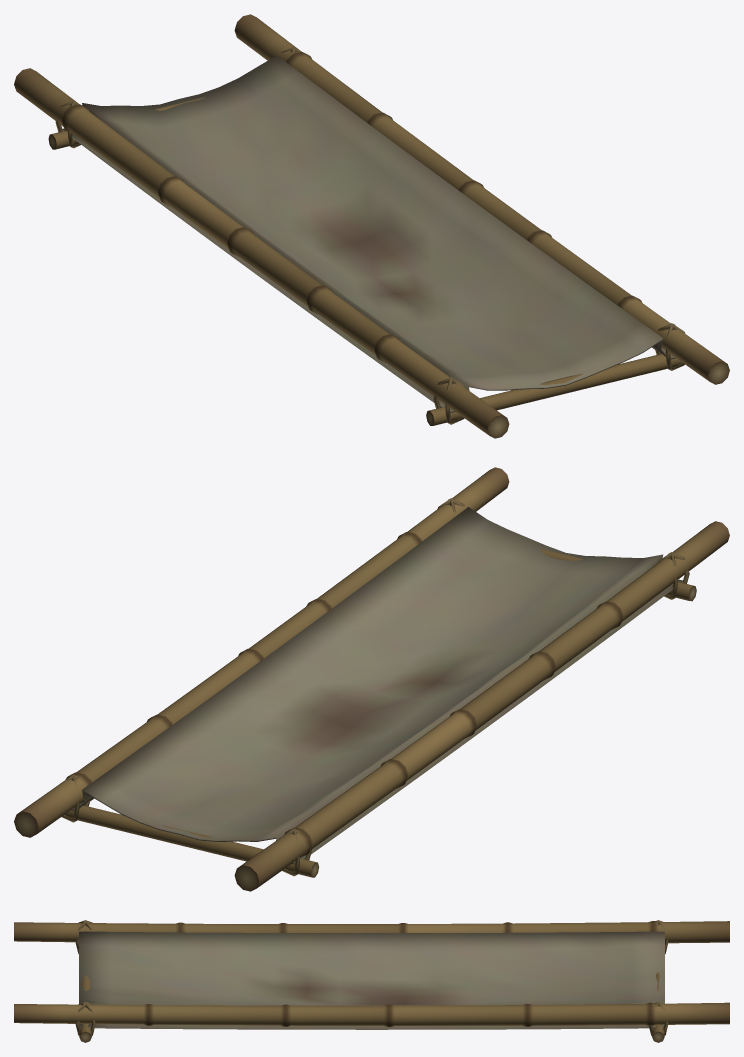
File: Model_BambooStretcher.glb
The picture shows the model from 3 angles, top to bottom: view 1: azimuth 30°, elevation 25°; view 2: azimuth 150°, elevation 25°; view 3: azimuth 270°, elevation 25°; orthographic projection. The views are drawn at different scales.
Visible parts, largest first — view 1: BambooStretcher; view 2: BambooStretcher; view 3: BambooStretcher.
Boxes of the visible parts, x1,y1,x2,y2 form: BambooStretcher: (14, 14, 729, 438); BambooStretcher: (14, 467, 729, 891); BambooStretcher: (14, 920, 729, 1042).
Size of the model in its own units: 0.69 by 0.1282 by 2.15.
